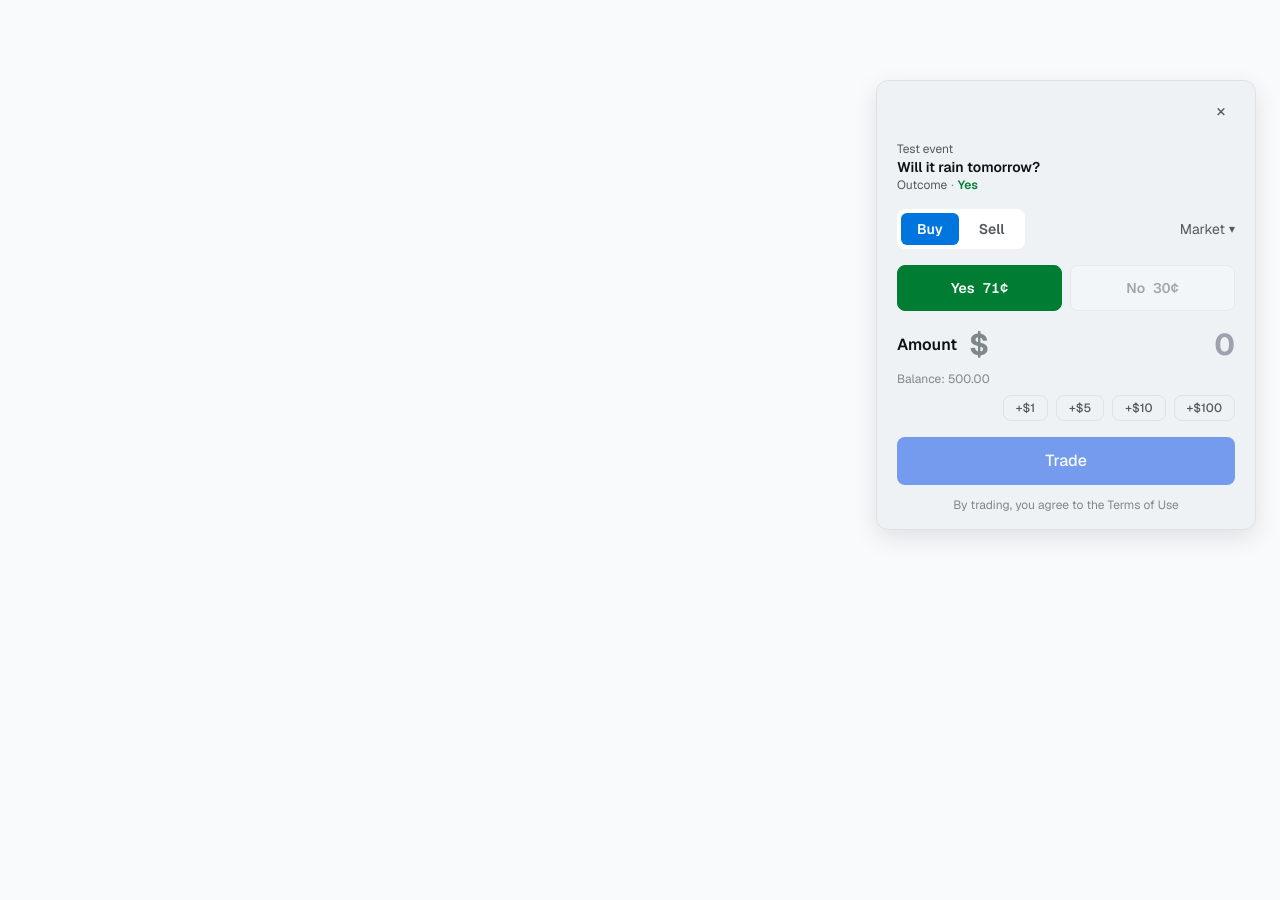
Test: BetSlip — shares model › switching to the Sell tab shows the sell branch (B4 — both tabs kept)
The image size is (1280, 900).
Click the button "Sell".
click(992, 229)  # box 963,213 -> 1020,245
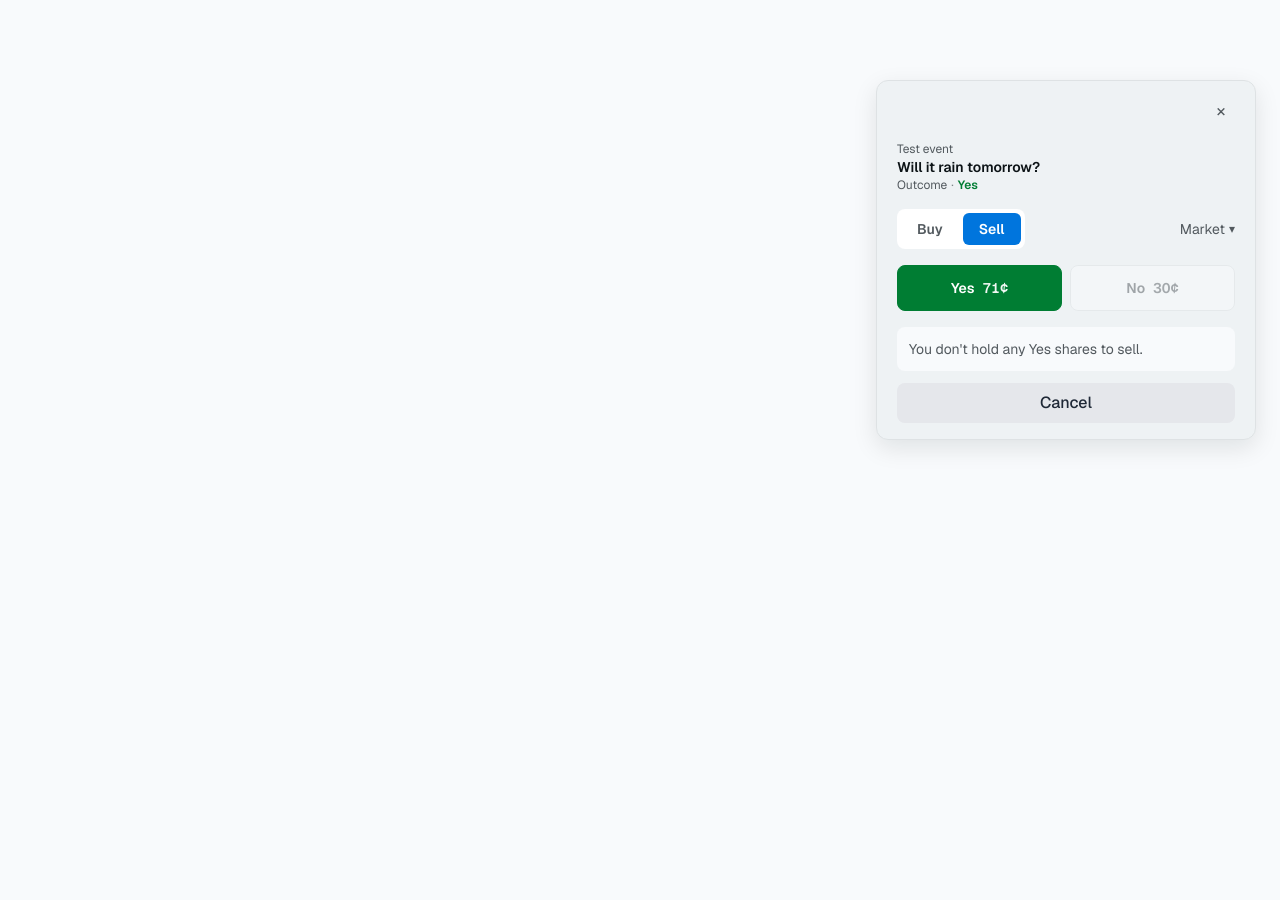
Check: the text "You don't hold any Yes shares to sell." is shown, box 897,327 -> 1235,371
